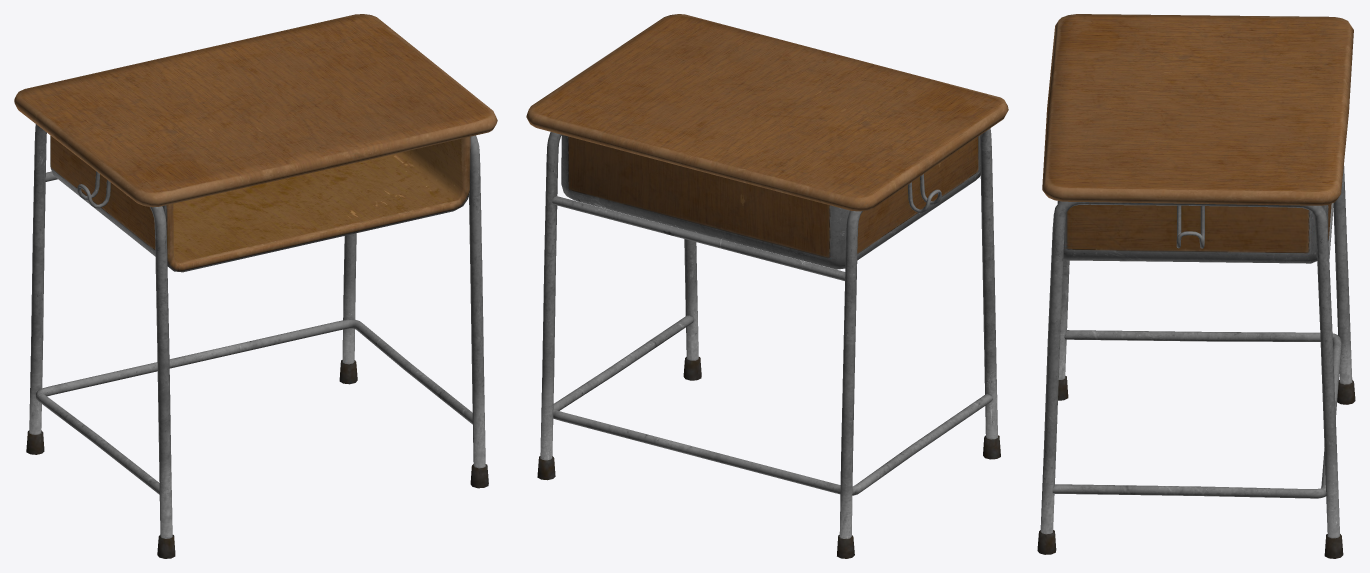
File: Desk.fbx
3 views of the same model, side by side, from view 1: azimuth 30°, elevation 25°; view 2: azimuth 150°, elevation 25°; view 3: azimuth 270°, elevation 25° (orthographic). The views are drawn at different scales.
Parts seen in each view (by area): view 1: Desk; view 2: Desk; view 3: Desk.
Boxes of the visible parts, <box> form: Desk: <box>14,14,497,558</box>; Desk: <box>526,14,1008,558</box>; Desk: <box>1037,14,1355,558</box>.
Size of the model in its own units: 72.37 by 69.27 by 53.59.
